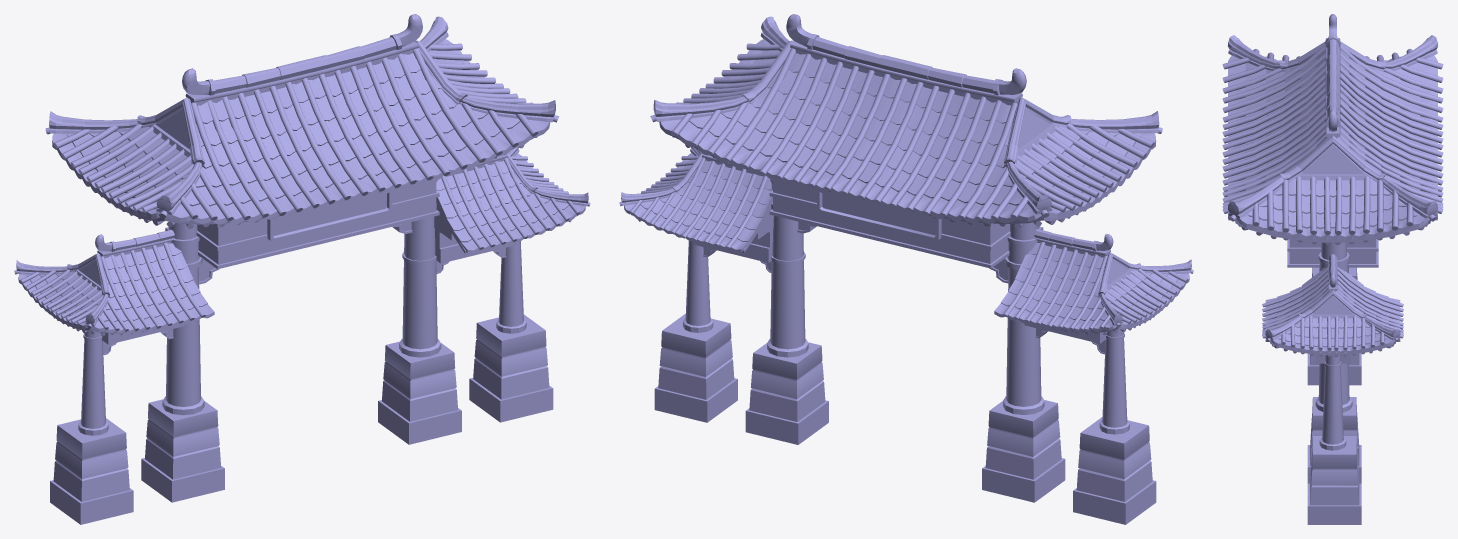
3 renders of one model, left to right at view 1: azimuth 30°, elevation 25°; view 2: azimuth 150°, elevation 25°; view 3: azimuth 270°, elevation 25°, orthographic. The views are drawn at different scales.
Parts seen in each view (by area): view 1: Object349; view 2: Object349; view 3: Object349.
Boxes of the visible parts, bbox=[...] form: Object349: bbox=[14, 14, 590, 524]; Object349: bbox=[619, 14, 1193, 524]; Object349: bbox=[1222, 14, 1443, 524].
Size of the model in its own units: 518 by 405 by 224.
